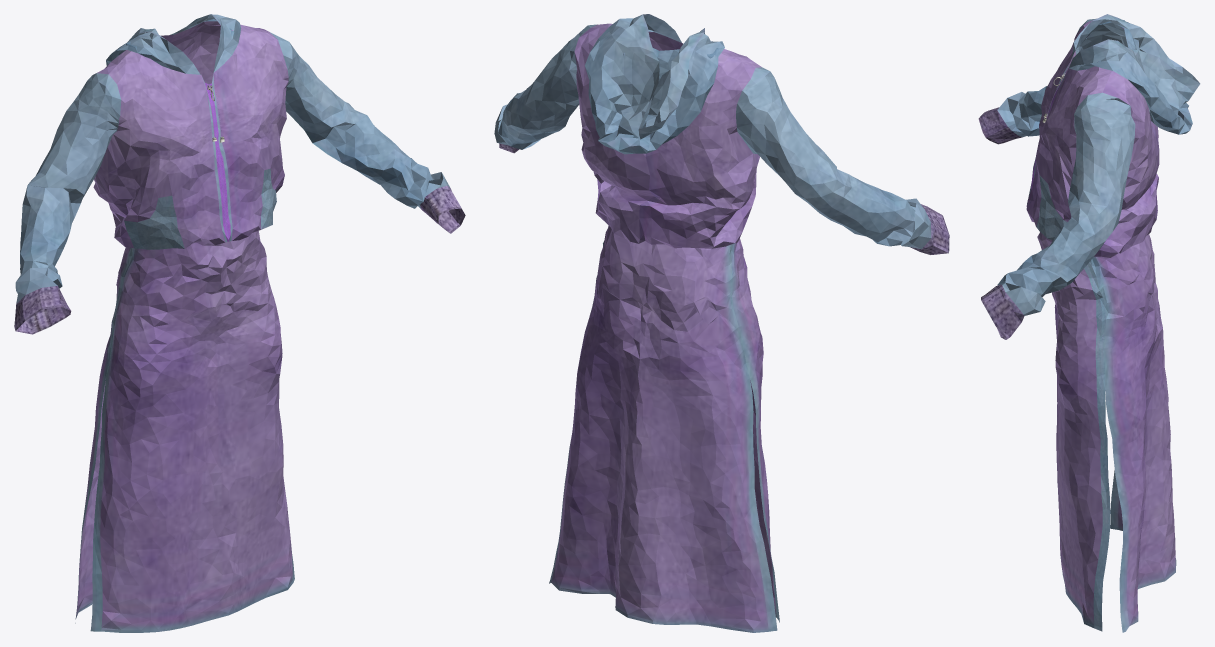
The model's file is mhw_elvs_sporty_tracksuit_hoodie_dress1.glb.
3 renders of one model, left to right at view 1: azimuth 30°, elevation 25°; view 2: azimuth 150°, elevation 25°; view 3: azimuth 270°, elevation 25°, orthographic. The views are drawn at different scales.
Visible parts, largest first — view 1: mhw_elvs_sporty_tracksuit_hoodie_dress1; view 2: mhw_elvs_sporty_tracksuit_hoodie_dress1; view 3: mhw_elvs_sporty_tracksuit_hoodie_dress1.
Boxes of the visible parts, x1=… form: mhw_elvs_sporty_tracksuit_hoodie_dress1: x1=14, y1=14, x2=465, y2=632; mhw_elvs_sporty_tracksuit_hoodie_dress1: x1=494, y1=14, x2=949, y2=632; mhw_elvs_sporty_tracksuit_hoodie_dress1: x1=978, y1=14, x2=1200, y2=632.
Size of the model in its own units: 1.17 by 1.47 by 0.5305.
Materials: 1 (1 with a texture image).
